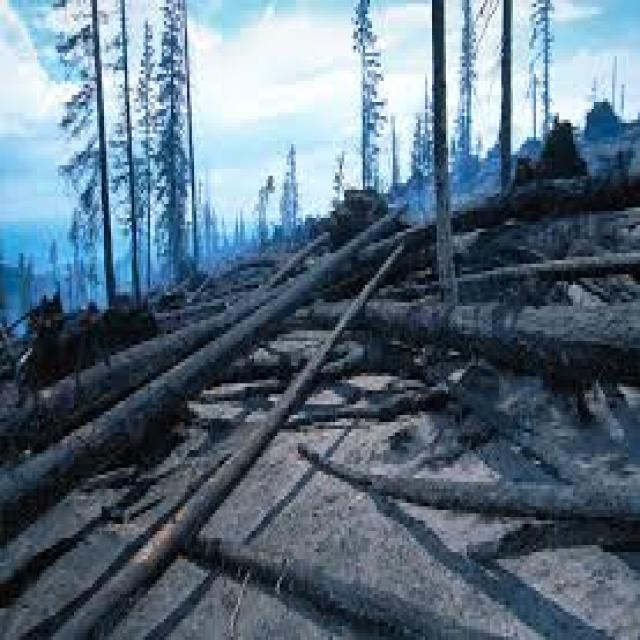Forest Fire: (190, 191, 561, 622)
